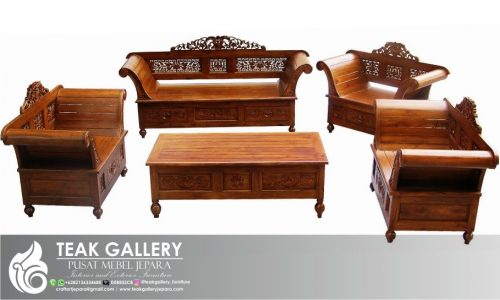Carving Chair: (368, 93, 490, 248), (114, 43, 307, 130), (7, 80, 126, 217), (317, 42, 438, 133)
Carving Table: (144, 135, 327, 214)
